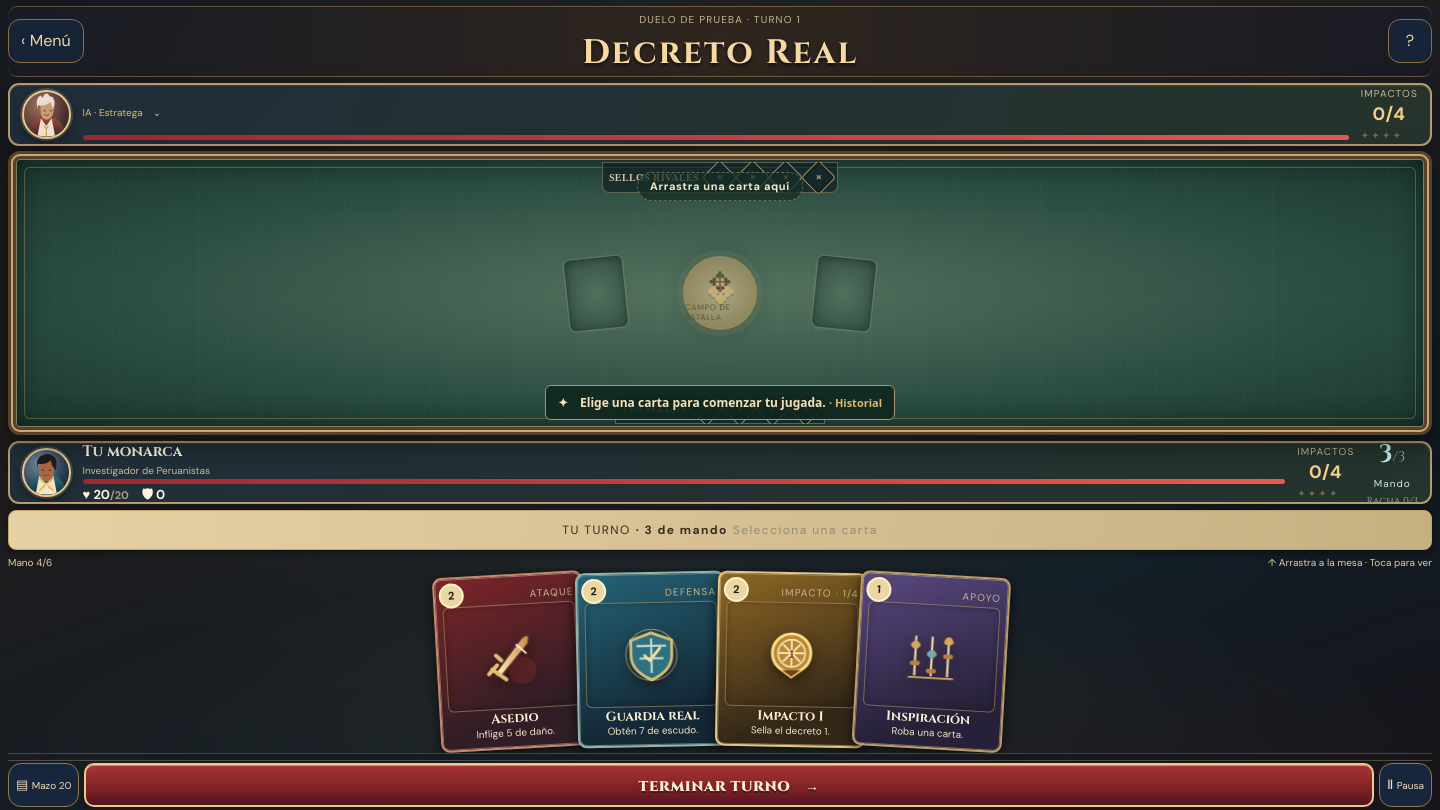
Scenario: dropping outside the table returns the card without playing it
Press the mouse on the button with class "dr-card" that starts with "ATAQUE": (511, 662) left=431, top=570, right=591, bottom=754
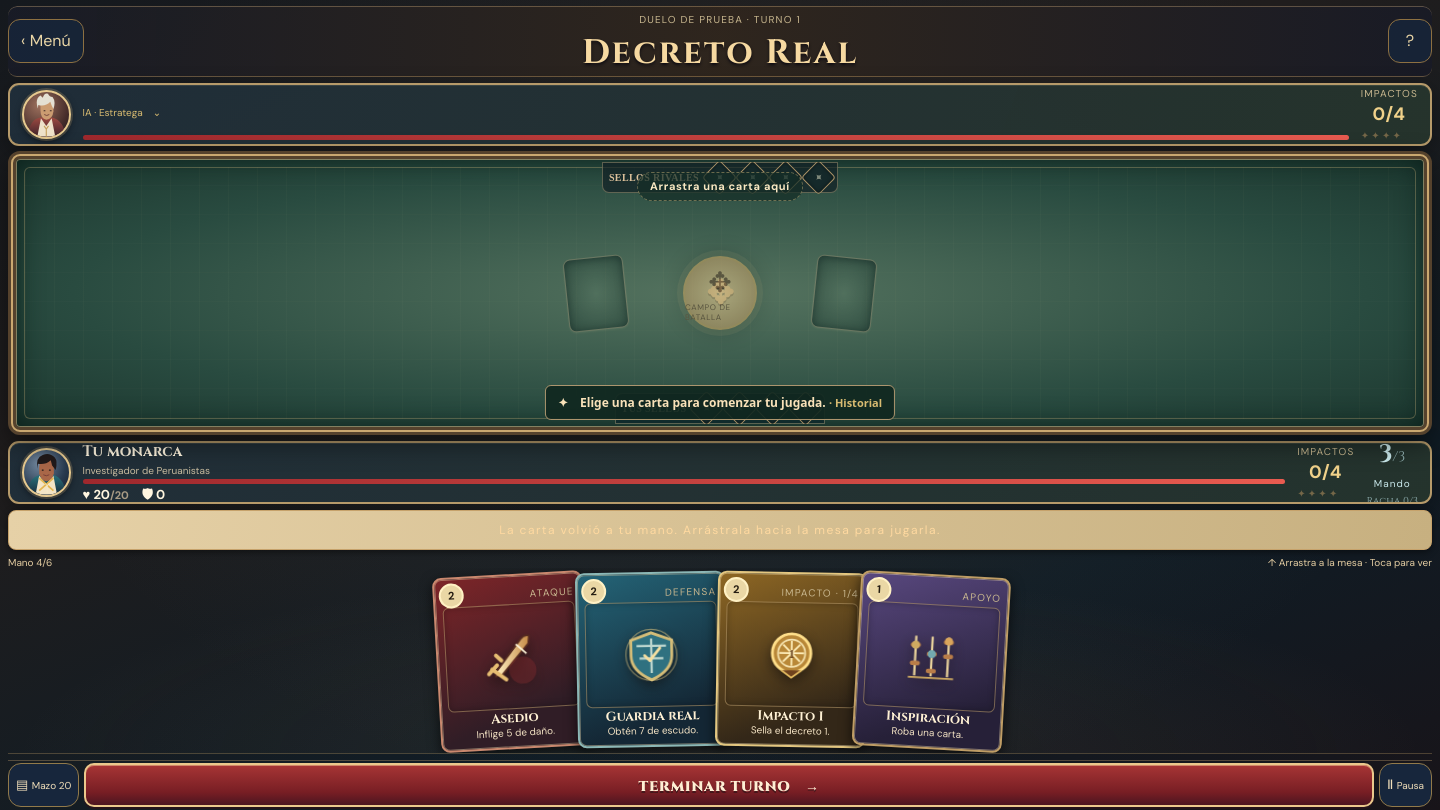
Expected: the number of buttons with class "dr-card" is 4, left=431, top=570, right=591, bottom=754; left=574, top=571, right=728, bottom=749; left=714, top=571, right=868, bottom=749; left=851, top=570, right=1011, bottom=754
Expected: the text with class "dr-notice" shows "volvió a tu mano", left=499, top=522, right=941, bottom=538
